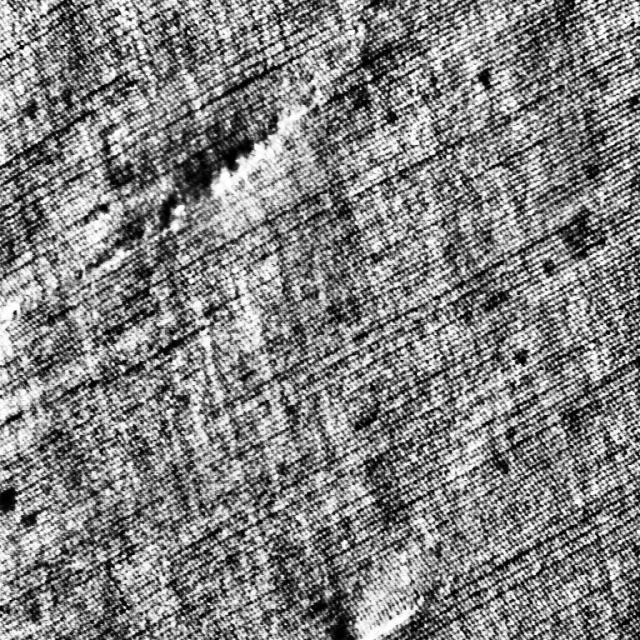gray stitch: (144, 99, 311, 248)
